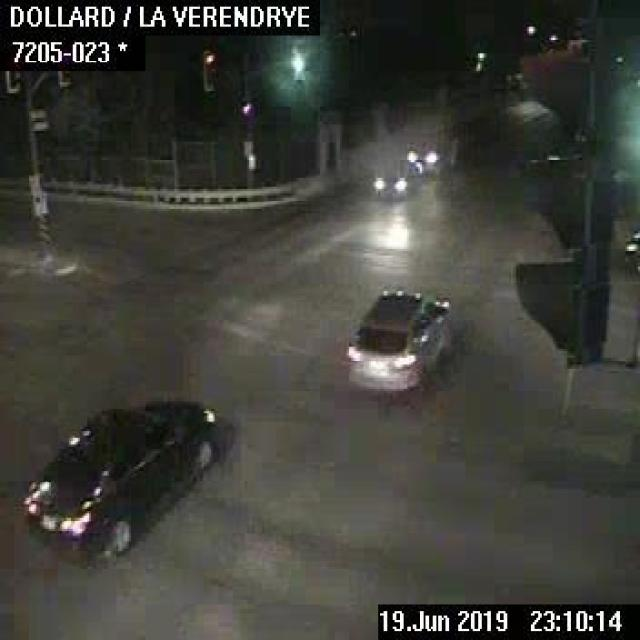vehicle: (22, 396, 225, 564), (343, 282, 452, 389), (402, 135, 447, 176), (369, 168, 409, 200)
